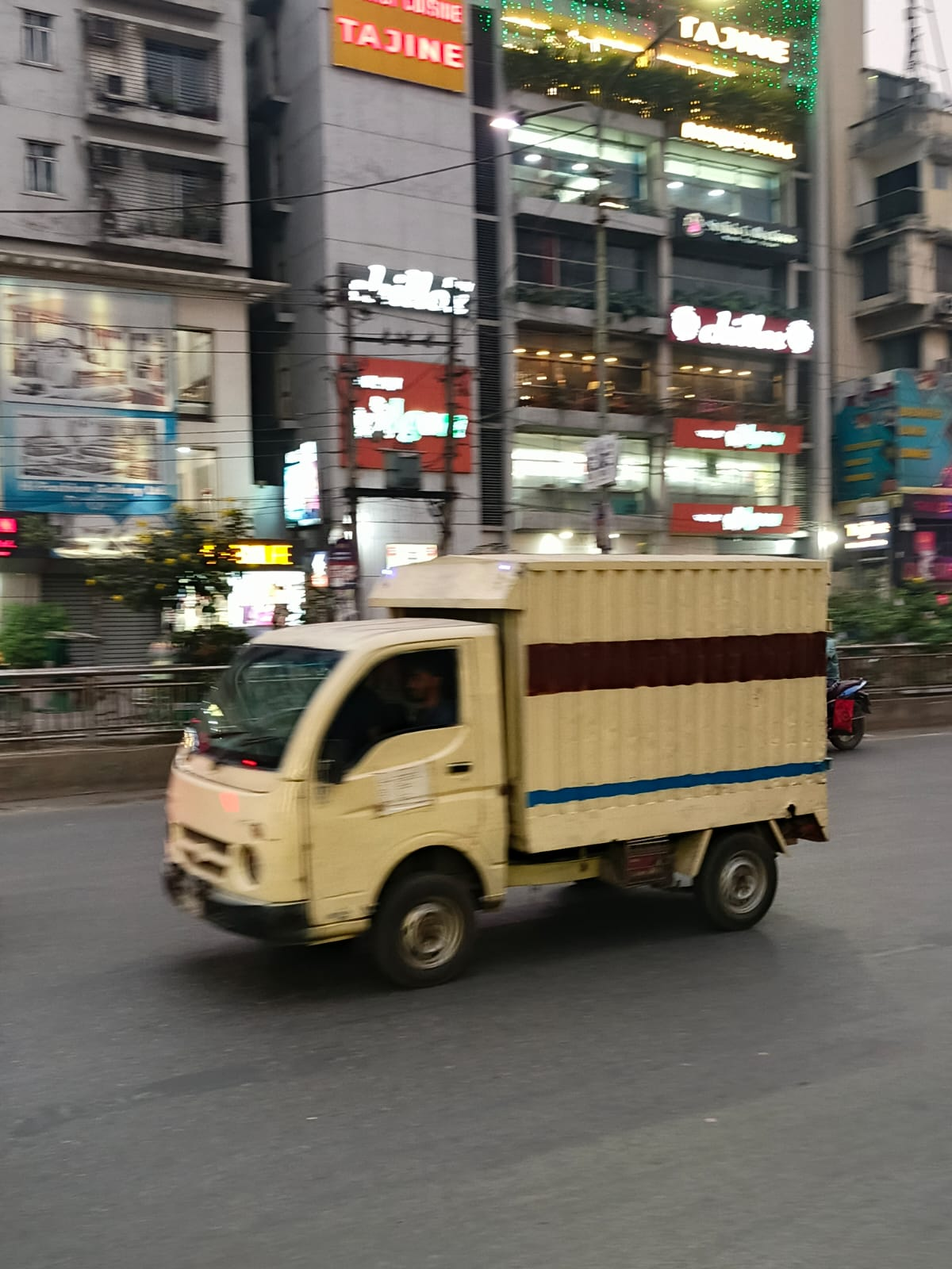Pickup: (103, 509, 862, 1004)
